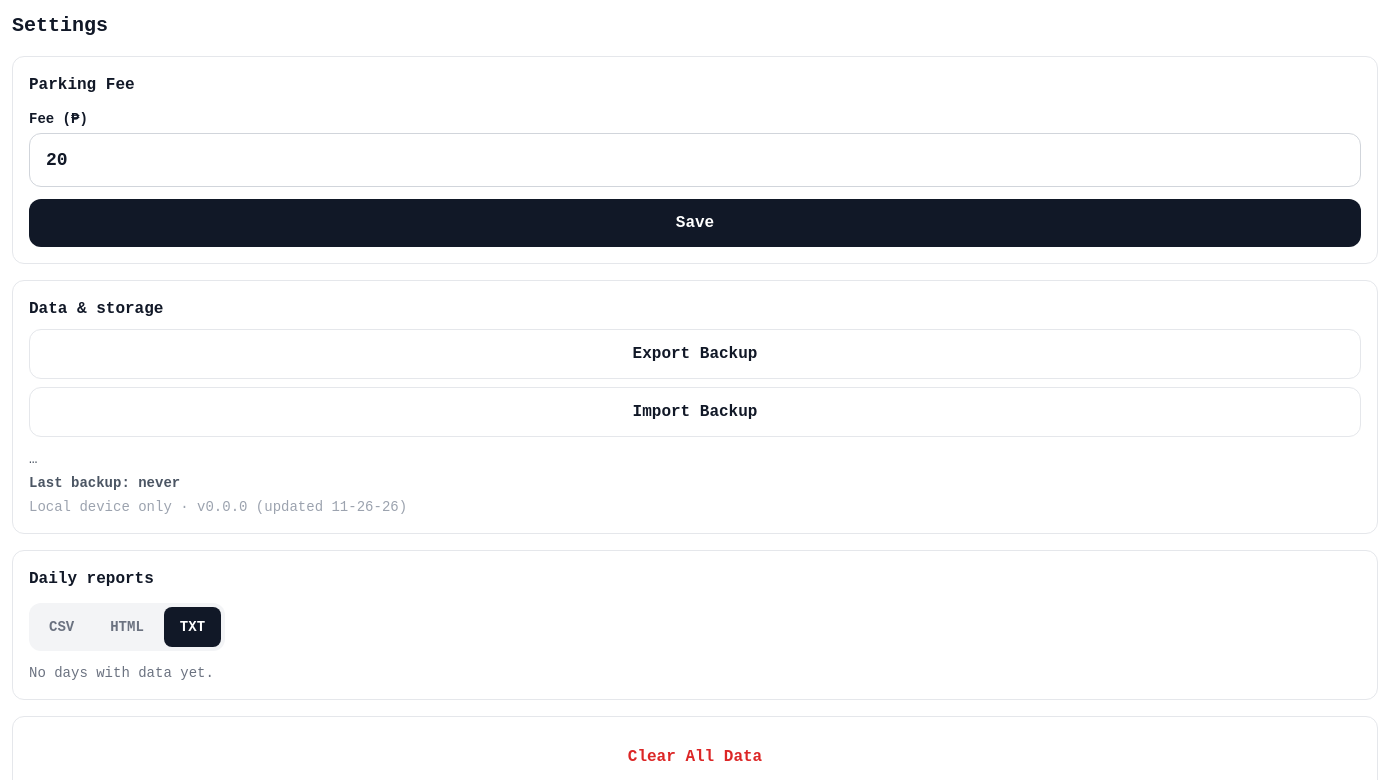
Scenario: Settings view/edit › rejects invalid fee
The width and height of the screenshot is (1378, 780).
Replace the text in the field showing "20" with "0": (695, 160) [29,133,1361,187]
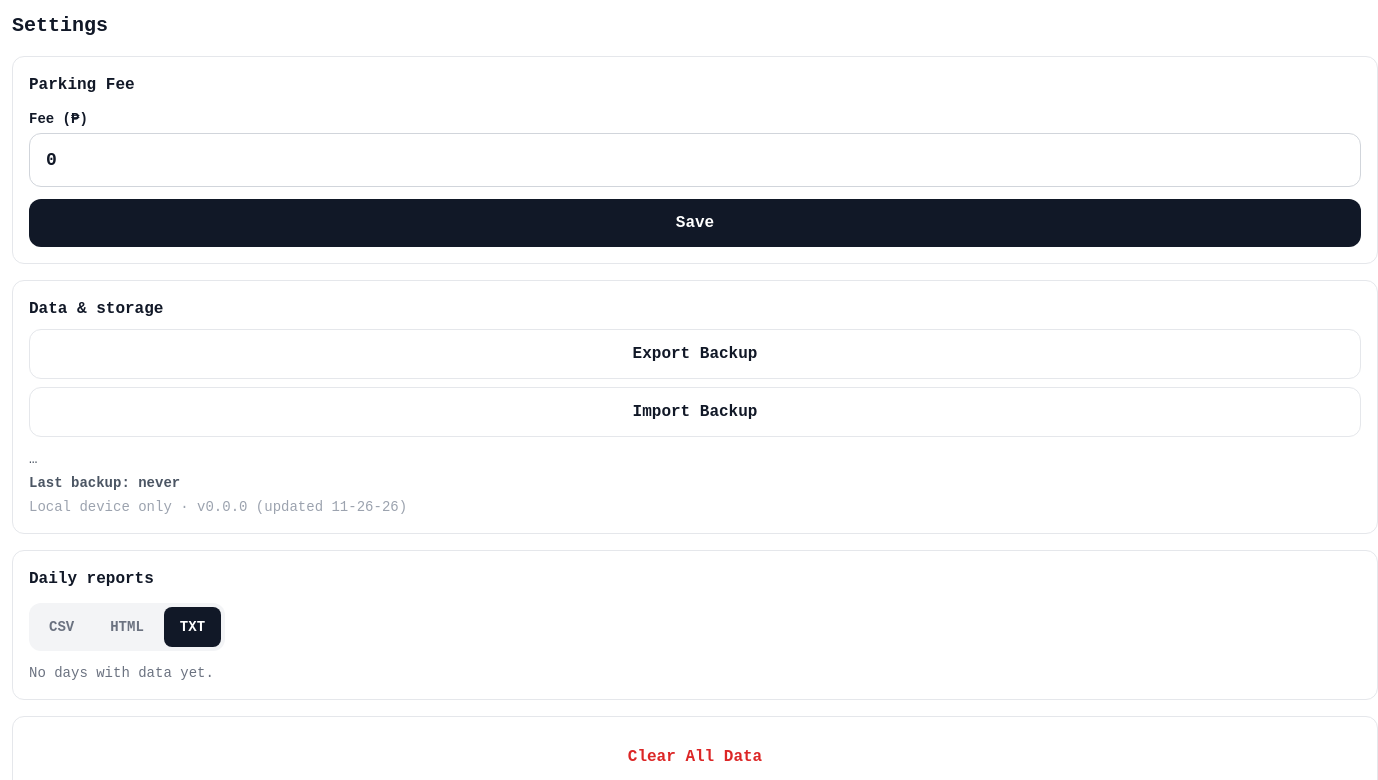
Click the button "Save": (695, 223) [29,199,1361,247]
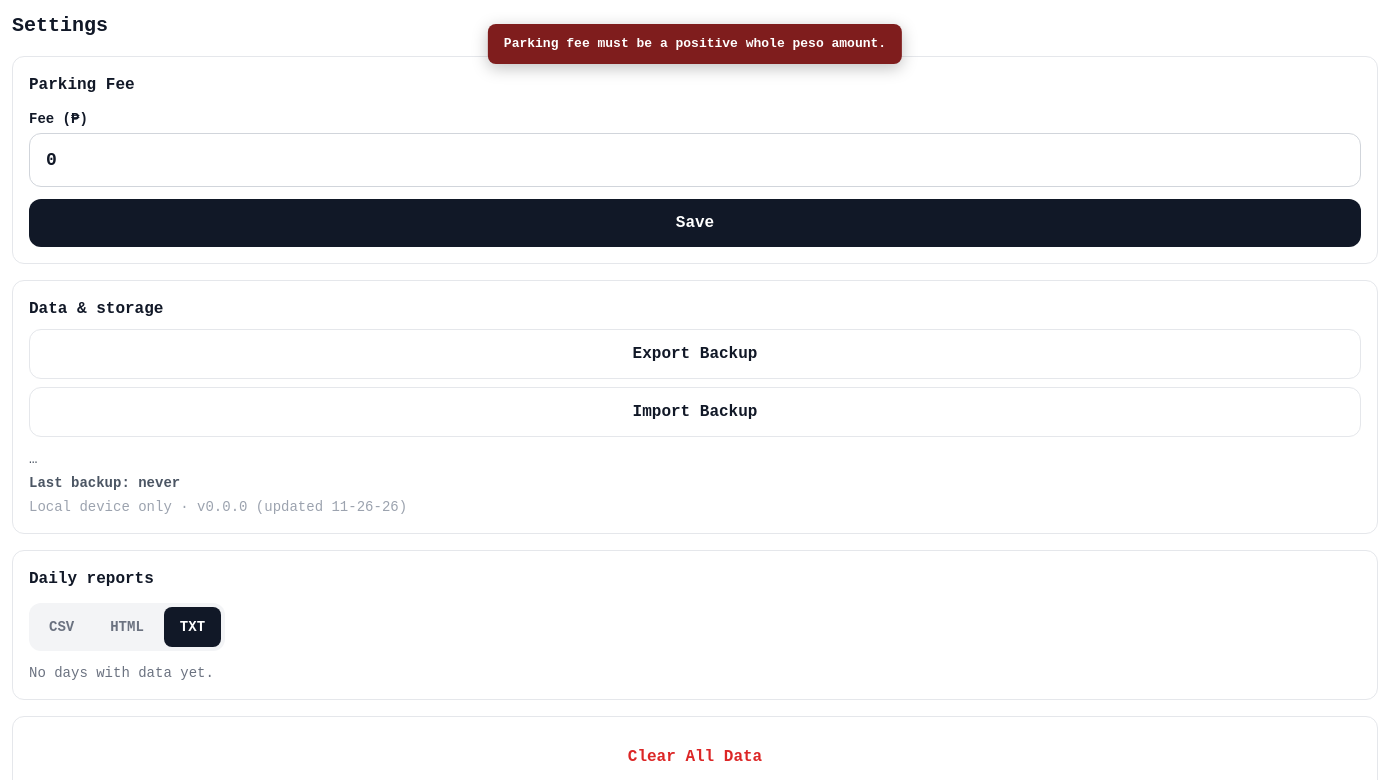
Result: the message "Parking fee must be a positive whole peso amount." is shown at [488,24,902,64]
